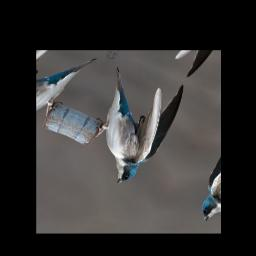Swallow: (62, 57, 195, 193)
